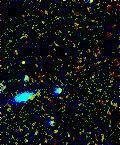star: (10, 46, 40, 76)
